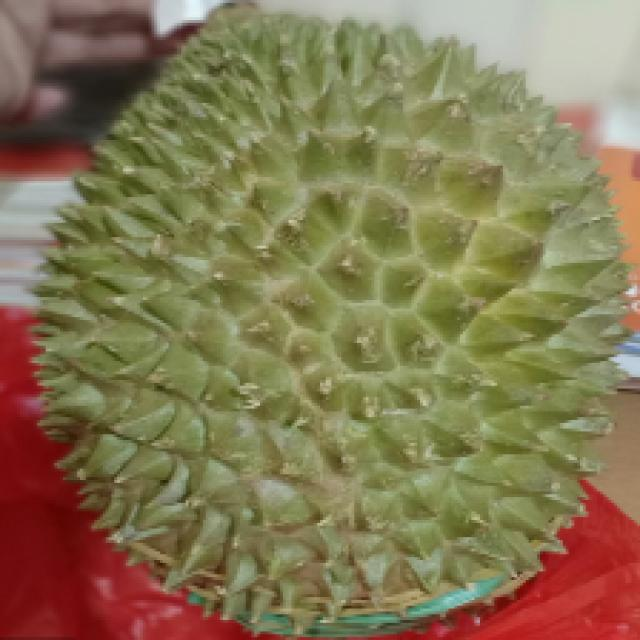d197: (33, 11, 634, 639)
